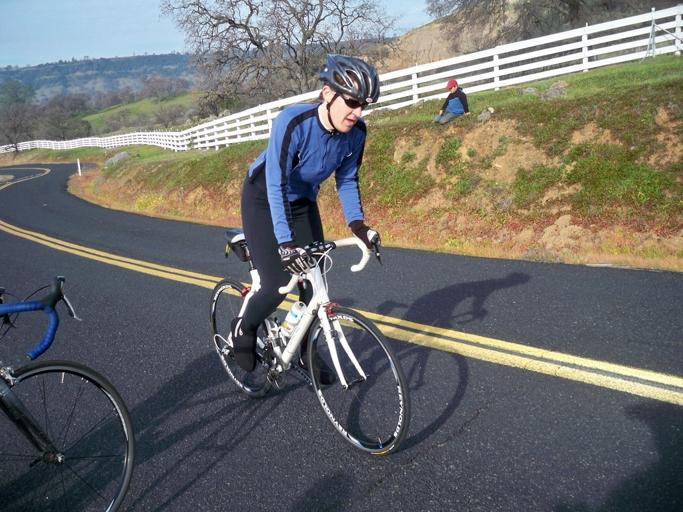non-vehicle: (208, 224, 413, 457), (0, 276, 137, 512)
